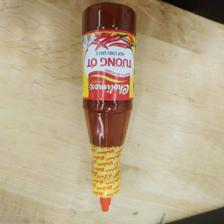Tuong: (81, 2, 139, 213)
